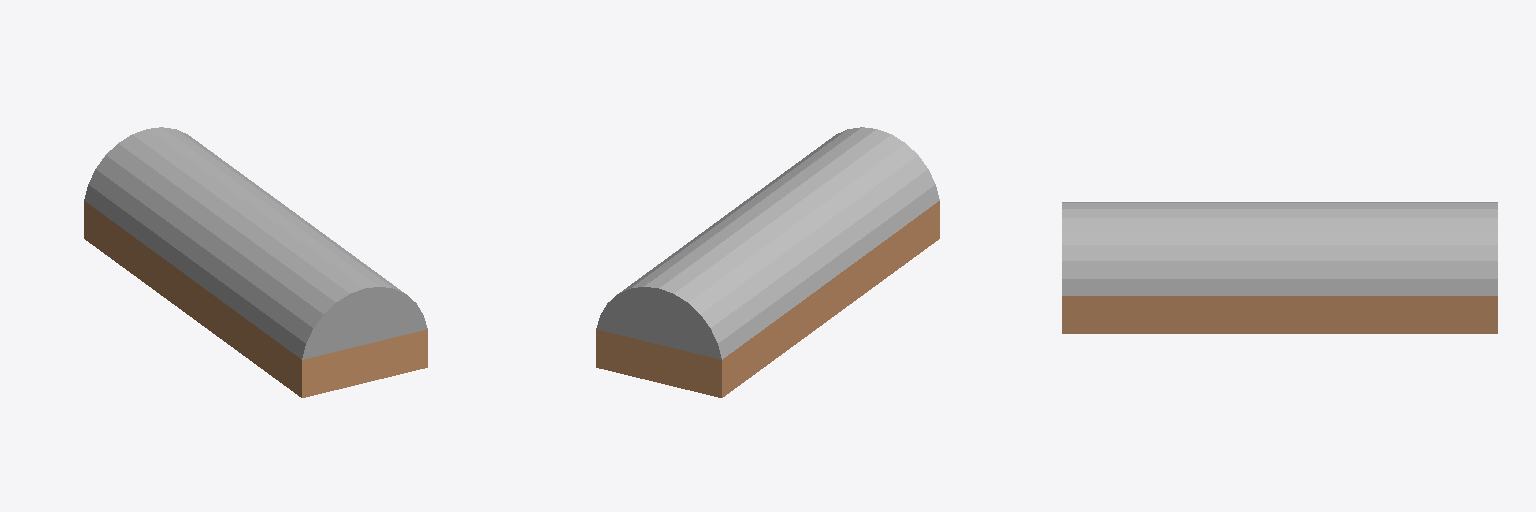
The model's file is glMap.obj.
3 views of the same model, side by side, from view 1: azimuth 30°, elevation 25°; view 2: azimuth 150°, elevation 25°; view 3: azimuth 270°, elevation 25° (orthographic).
Visible parts, largest first — view 1: Mesh1 Model; view 2: Mesh1 Model; view 3: Mesh1 Model.
Part boxes in pixels (x1,y1,x2,y2): Mesh1 Model: (84,127,427,397); Mesh1 Model: (596,127,939,397); Mesh1 Model: (1062,202,1497,333).
Size of the model in its own units: 300 by 216 by 900.